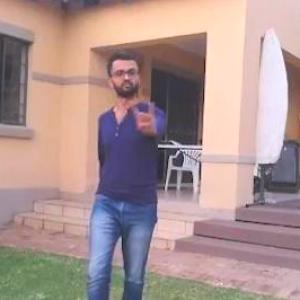takeoff-hand: (121, 94, 162, 143)
